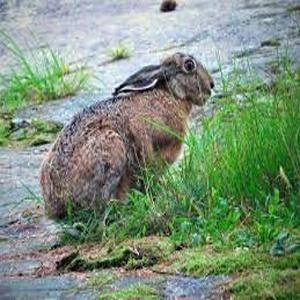rabbit: (40, 52, 214, 217)
